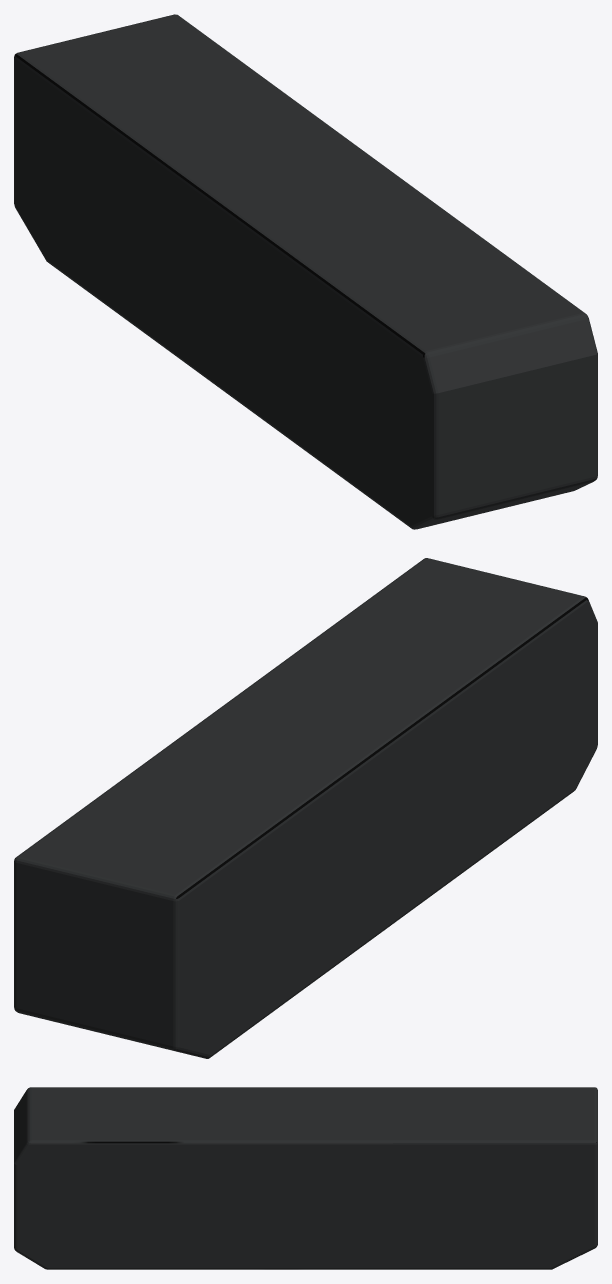
File: SM_M590_Bolt.fbx
3 renders of one model, top to bottom at view 1: azimuth 30°, elevation 25°; view 2: azimuth 150°, elevation 25°; view 3: azimuth 270°, elevation 25°, orthographic. The views are drawn at different scales.
Parts seen in each view (by area): view 1: SM_M590_Bolt; view 2: SM_M590_Bolt; view 3: SM_M590_Bolt.
Boxes of the visible parts, <box> form: SM_M590_Bolt: <box>14,14,597,529</box>; SM_M590_Bolt: <box>14,558,597,1058</box>; SM_M590_Bolt: <box>14,1087,597,1269</box>.
Size of the model in its own units: 1.6 by 7.09 by 1.73.
